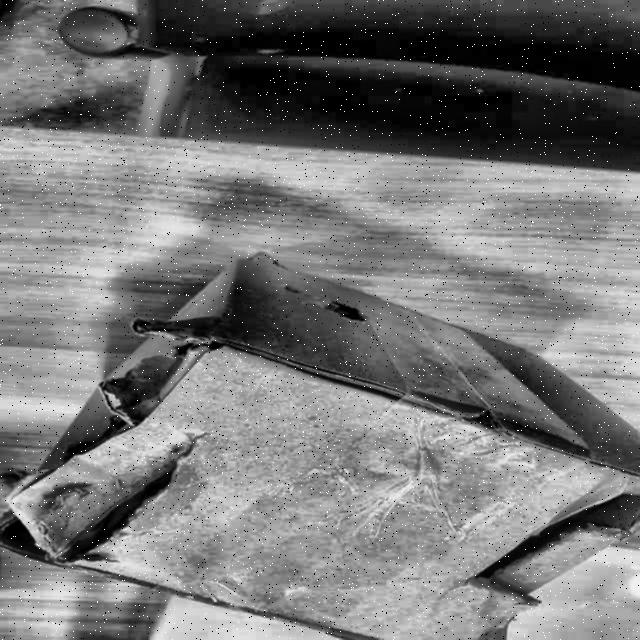box: (0, 250, 640, 640)
hole: (2, 434, 202, 568), (457, 479, 640, 604), (317, 293, 376, 327)
